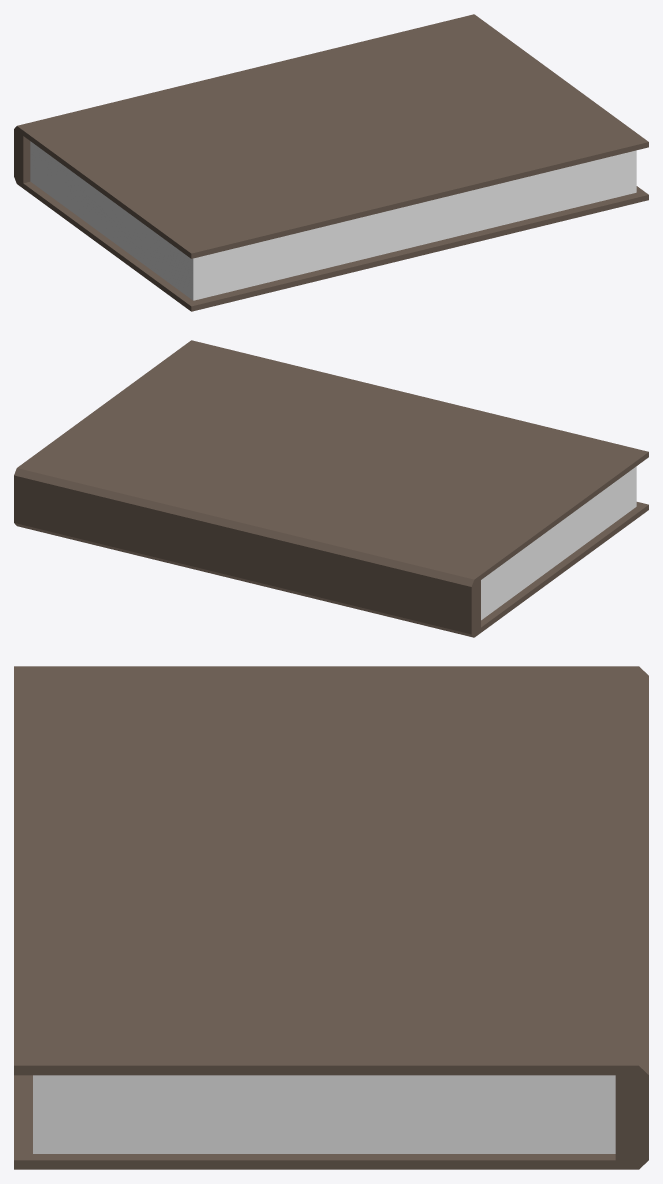
Rendered from book4.fbx.
3 views of the same model, one above another, from view 1: azimuth 30°, elevation 25°; view 2: azimuth 150°, elevation 25°; view 3: azimuth 270°, elevation 25° (orthographic). The views are drawn at different scales.
Visible parts, largest first — view 1: Cube; view 2: Cube; view 3: Cube.
Part boxes in pixels (x1,y1,x2,y2): Cube: (14,14,648,311); Cube: (14,340,648,637); Cube: (14,666,648,1169).
Size of the model in its own units: 3.03 by 0.3673 by 2.03.
